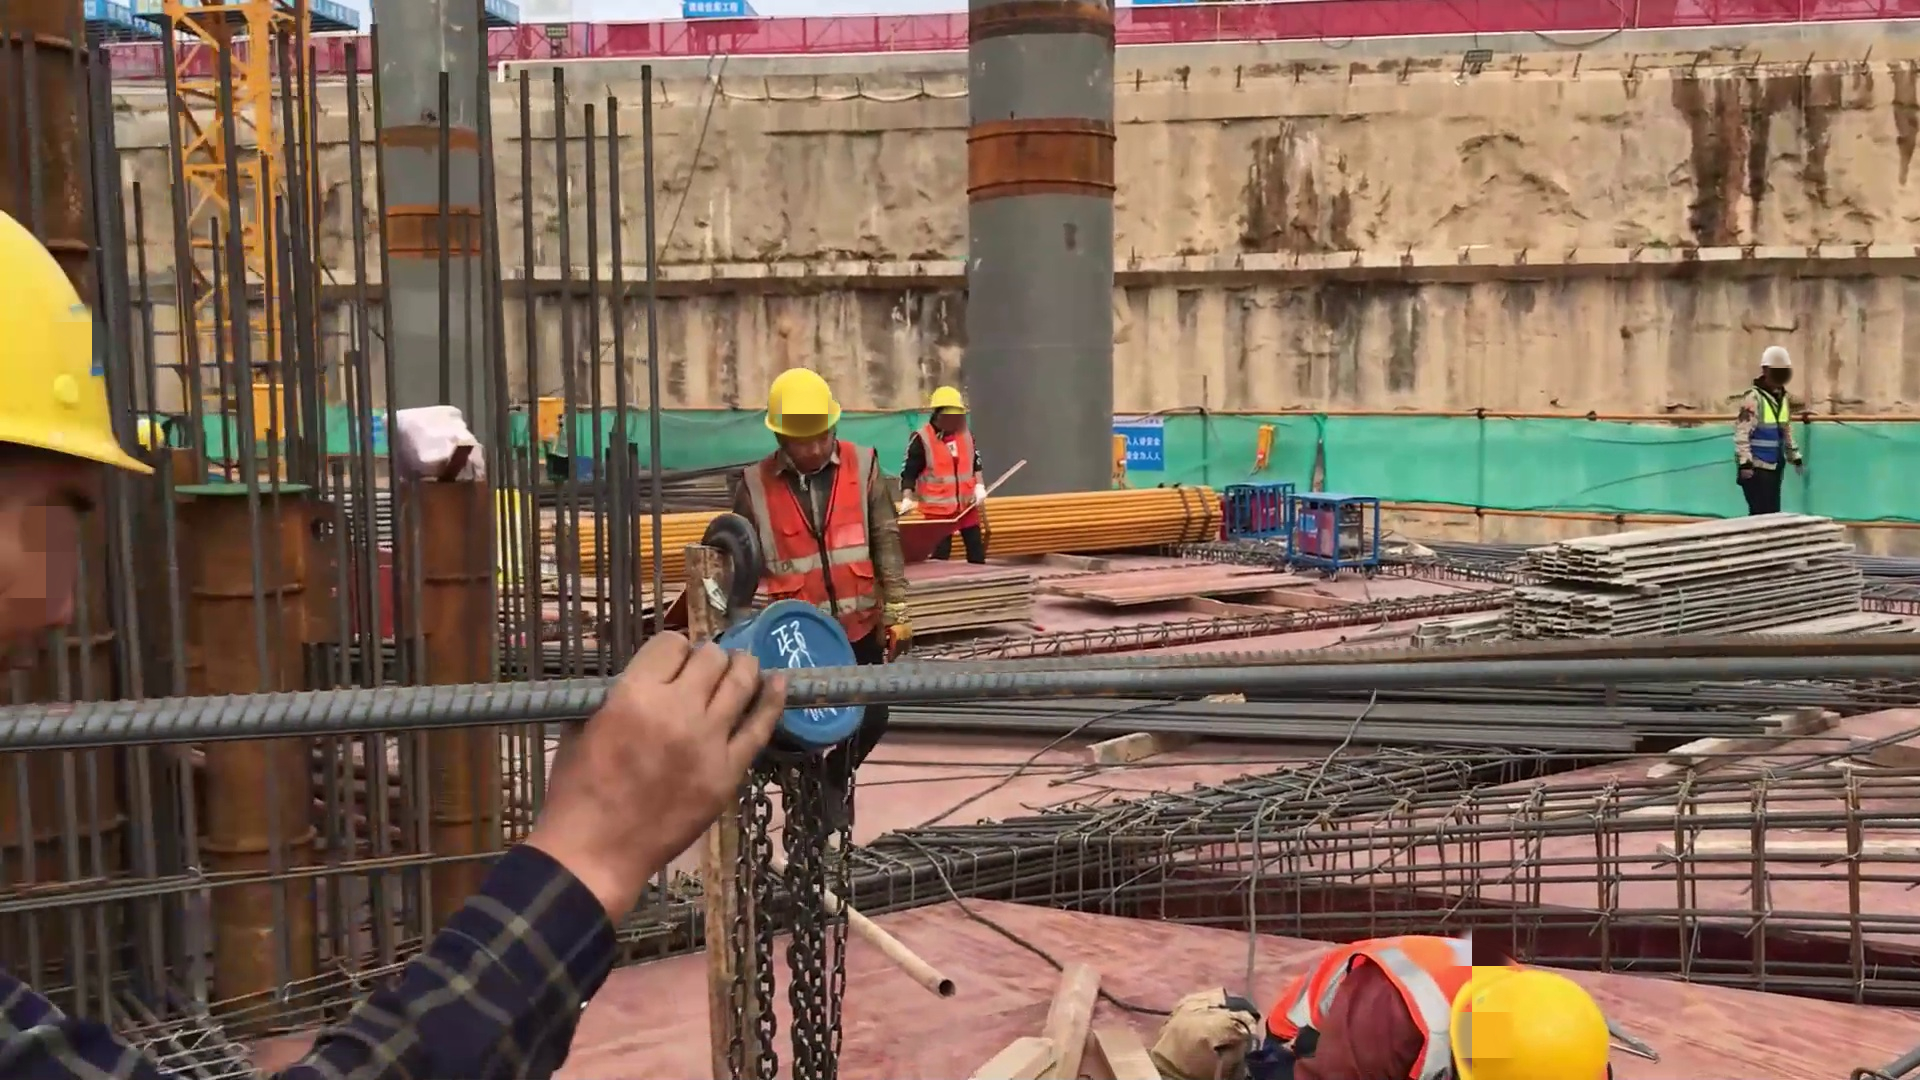board: (908, 565, 1035, 638)
ebox: (537, 395, 566, 455), (1112, 434, 1128, 488)
helmet: (1, 210, 161, 479), (1448, 960, 1604, 1080), (763, 364, 845, 435), (925, 385, 973, 418), (1760, 346, 1793, 370)
person: (1, 201, 788, 1076), (732, 364, 912, 702), (1247, 932, 1610, 1080), (898, 386, 993, 564), (1733, 345, 1805, 516)
slogan: (1128, 415, 1163, 470)
vest: (1271, 933, 1465, 1072), (745, 450, 881, 638), (913, 426, 981, 521), (1749, 389, 1789, 465)
